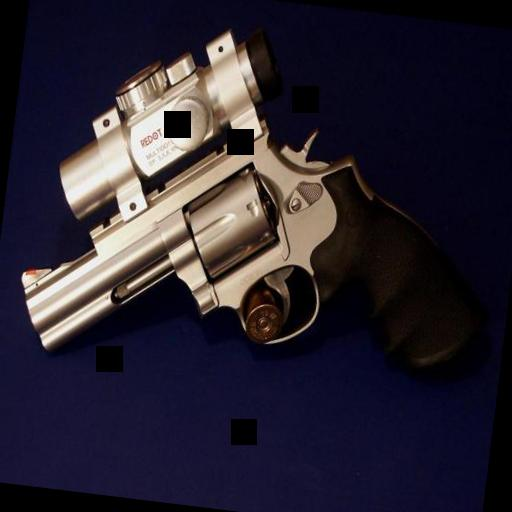Handgun: (6, 0, 505, 425)
